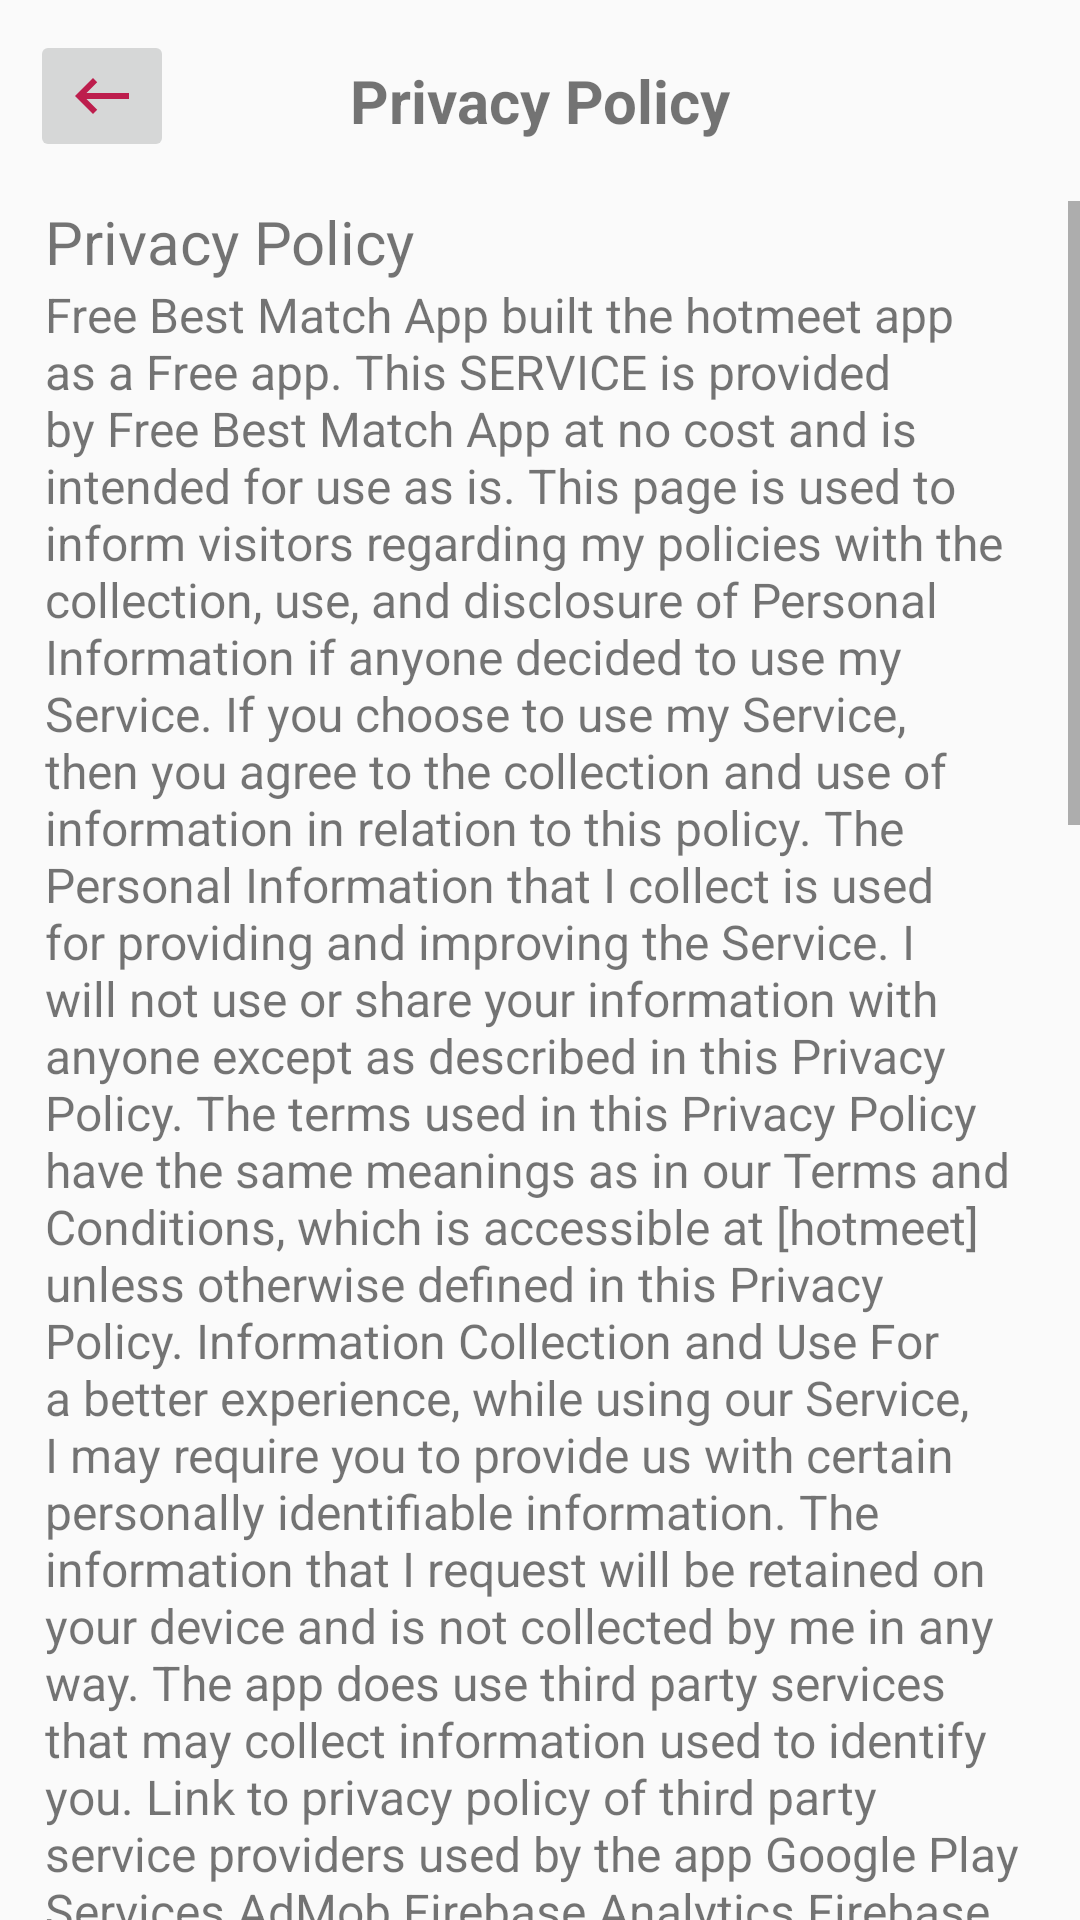

Icon click points for this 1080 x 1920 phone screenshot, format point (x, y):
back arrow: point (102, 96)
